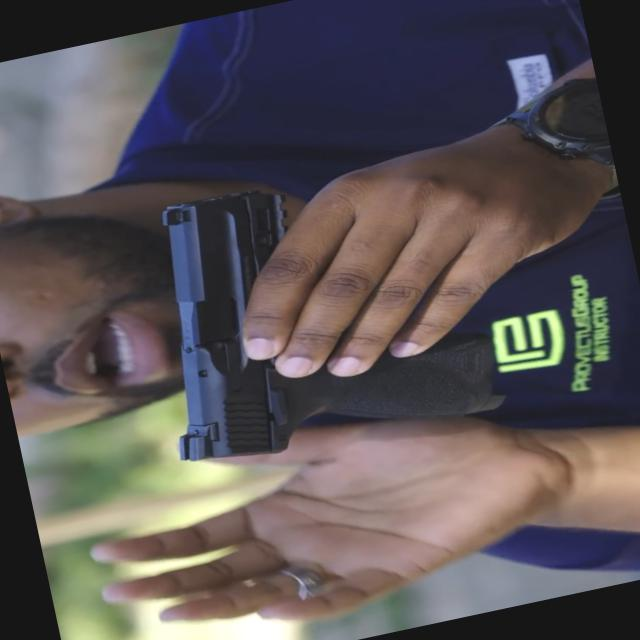handgun: (122, 117, 508, 501)
